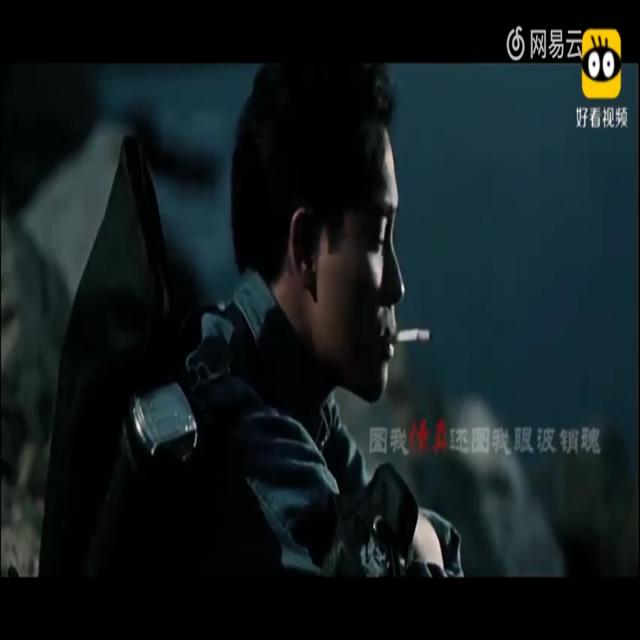smoke: (387, 320, 442, 357)
